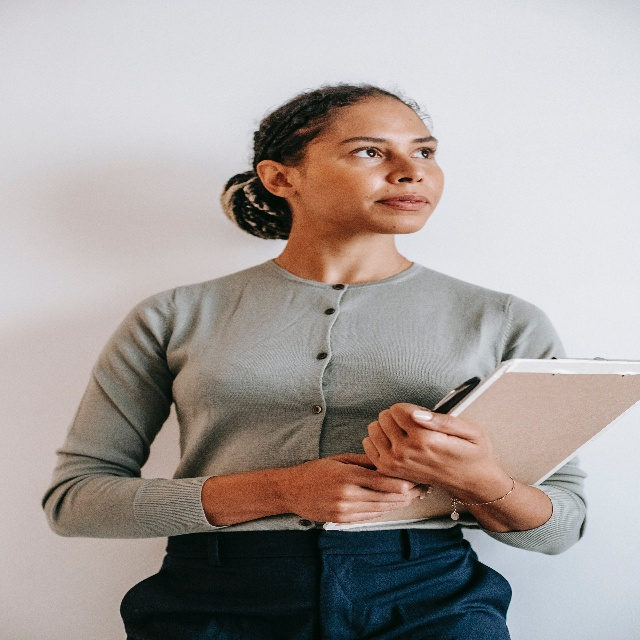Sin_guantes: (361, 399, 494, 503), (286, 449, 434, 524)
